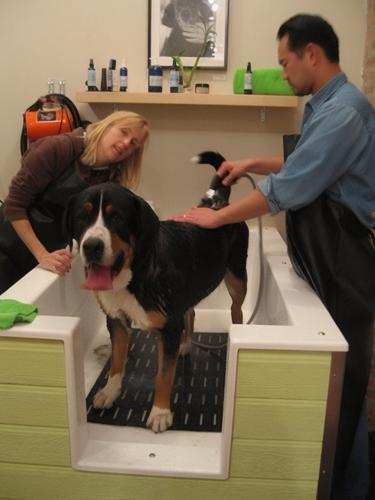bottle: (149, 58, 163, 92), (245, 61, 255, 96), (88, 60, 97, 90), (172, 60, 179, 95), (123, 61, 128, 91)
cat: (110, 60, 117, 92)
dog: (68, 153, 251, 433)
person: (179, 12, 375, 486), (1, 109, 155, 277)
person/hand: (168, 206, 219, 230), (39, 249, 72, 277), (217, 160, 244, 185)
person/head: (276, 11, 340, 97), (100, 110, 148, 163)
